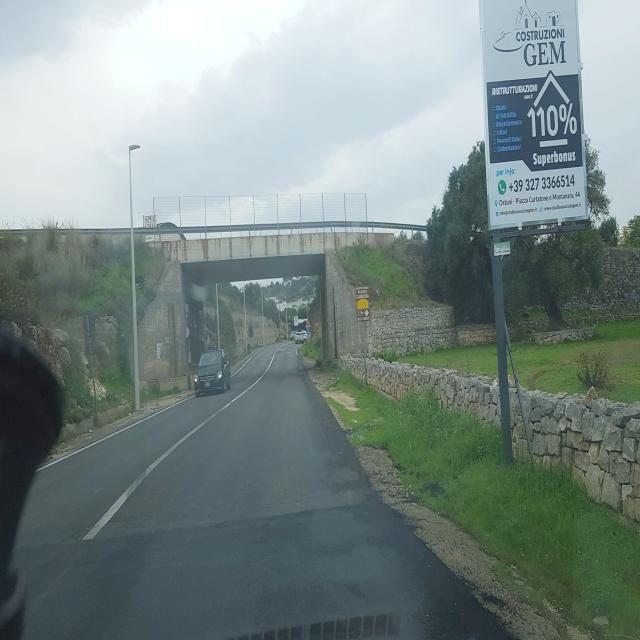car: (194, 347, 232, 394), (294, 328, 308, 344)
